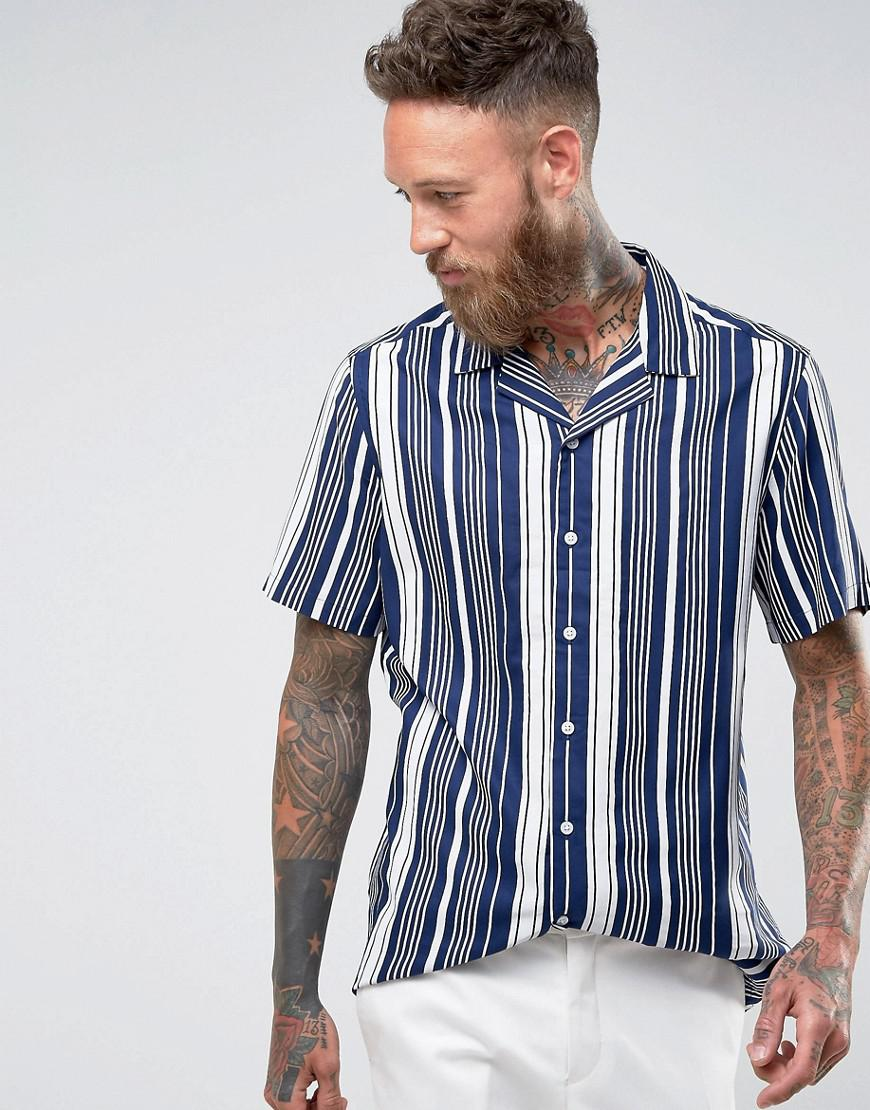teeshirt: (261, 257, 870, 990)
